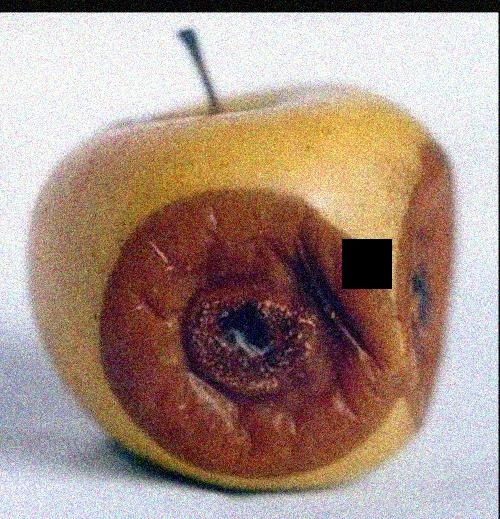rotten apple: (19, 85, 470, 492)
